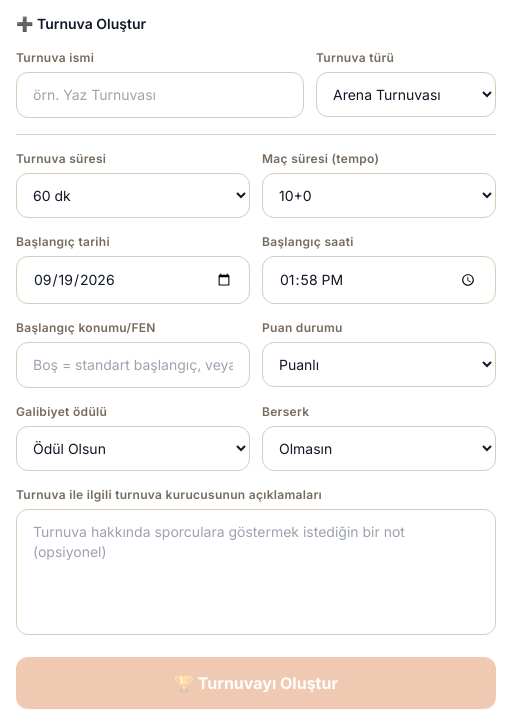
Test: Turnuva Oluştur — /play/tournament/create › Madde 2026-09-XX: İsviçre seçilince Tur Sayısı/Galibiyet Ödülü/Berserk kapanır › İsviçre seçilince "Turnuva süresi" yerine "Tur sayısı" gelir, kutu kapalıdır ve sabit yazı gösterir
The width and height of the screenshot is (513, 726).
Select "İsviçre Turnuvası" in the dropdown labelled "Turnuva türü": (406, 94) [316,72,496,117]
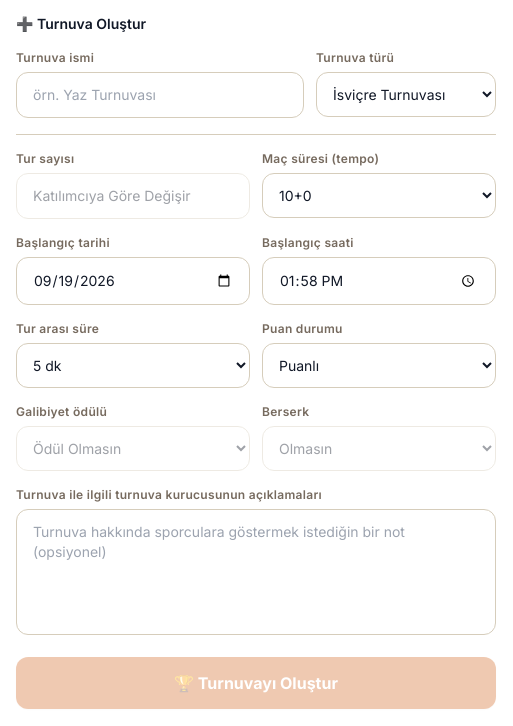
Expected: the label labelled "Turnuva süresi" is gone
Expected: the field labelled "Tur sayısı" is disabled, [16,173,250,219]
Expected: the field labelled "Tur sayısı" holds "Katılımcıya Göre Değişir", [16,173,250,219]
